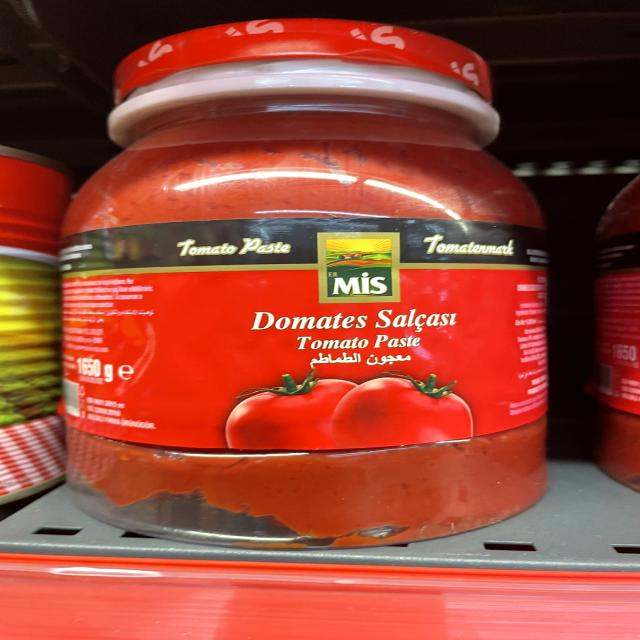tomato paste: (57, 26, 556, 534)
